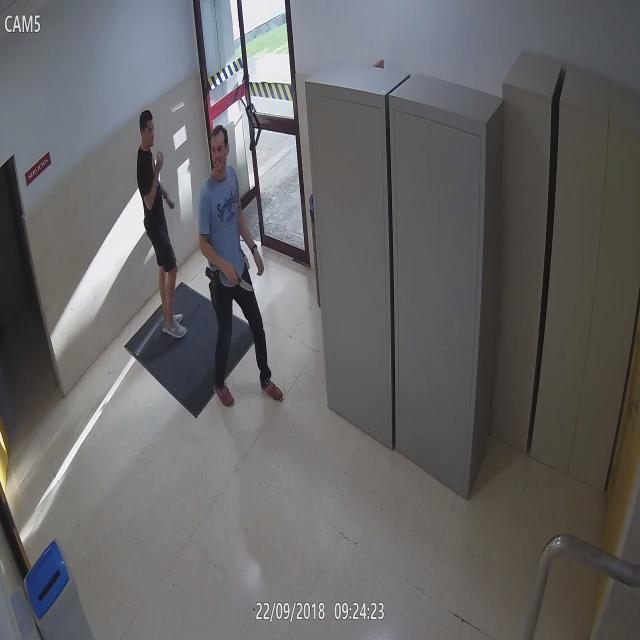Knife: (232, 272, 260, 302)
